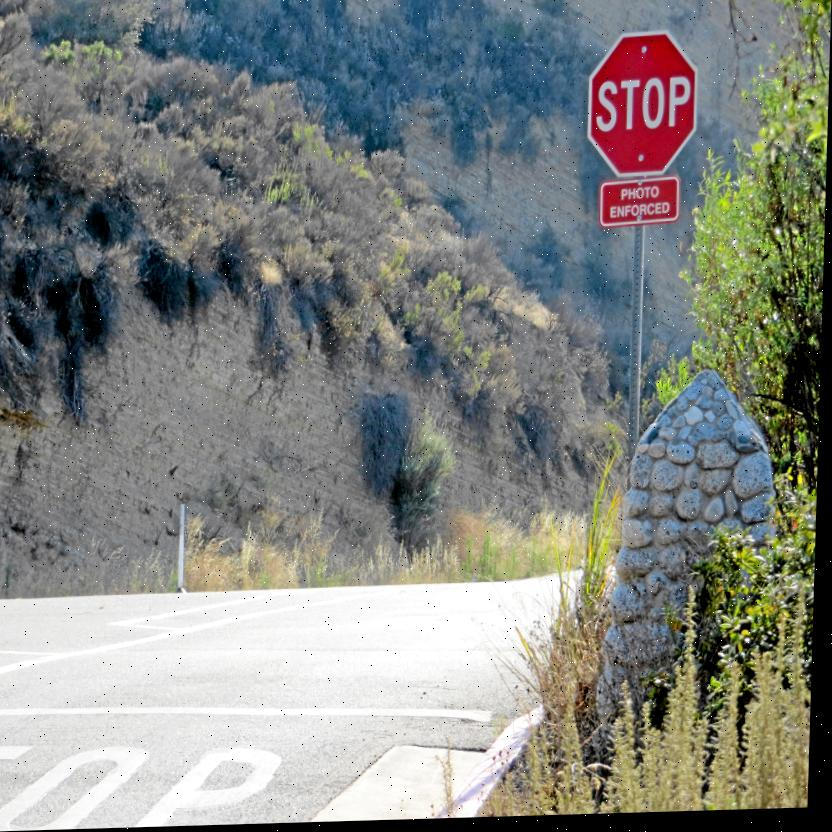Pole: (629, 228, 648, 441)
Sign: (585, 38, 700, 182)
